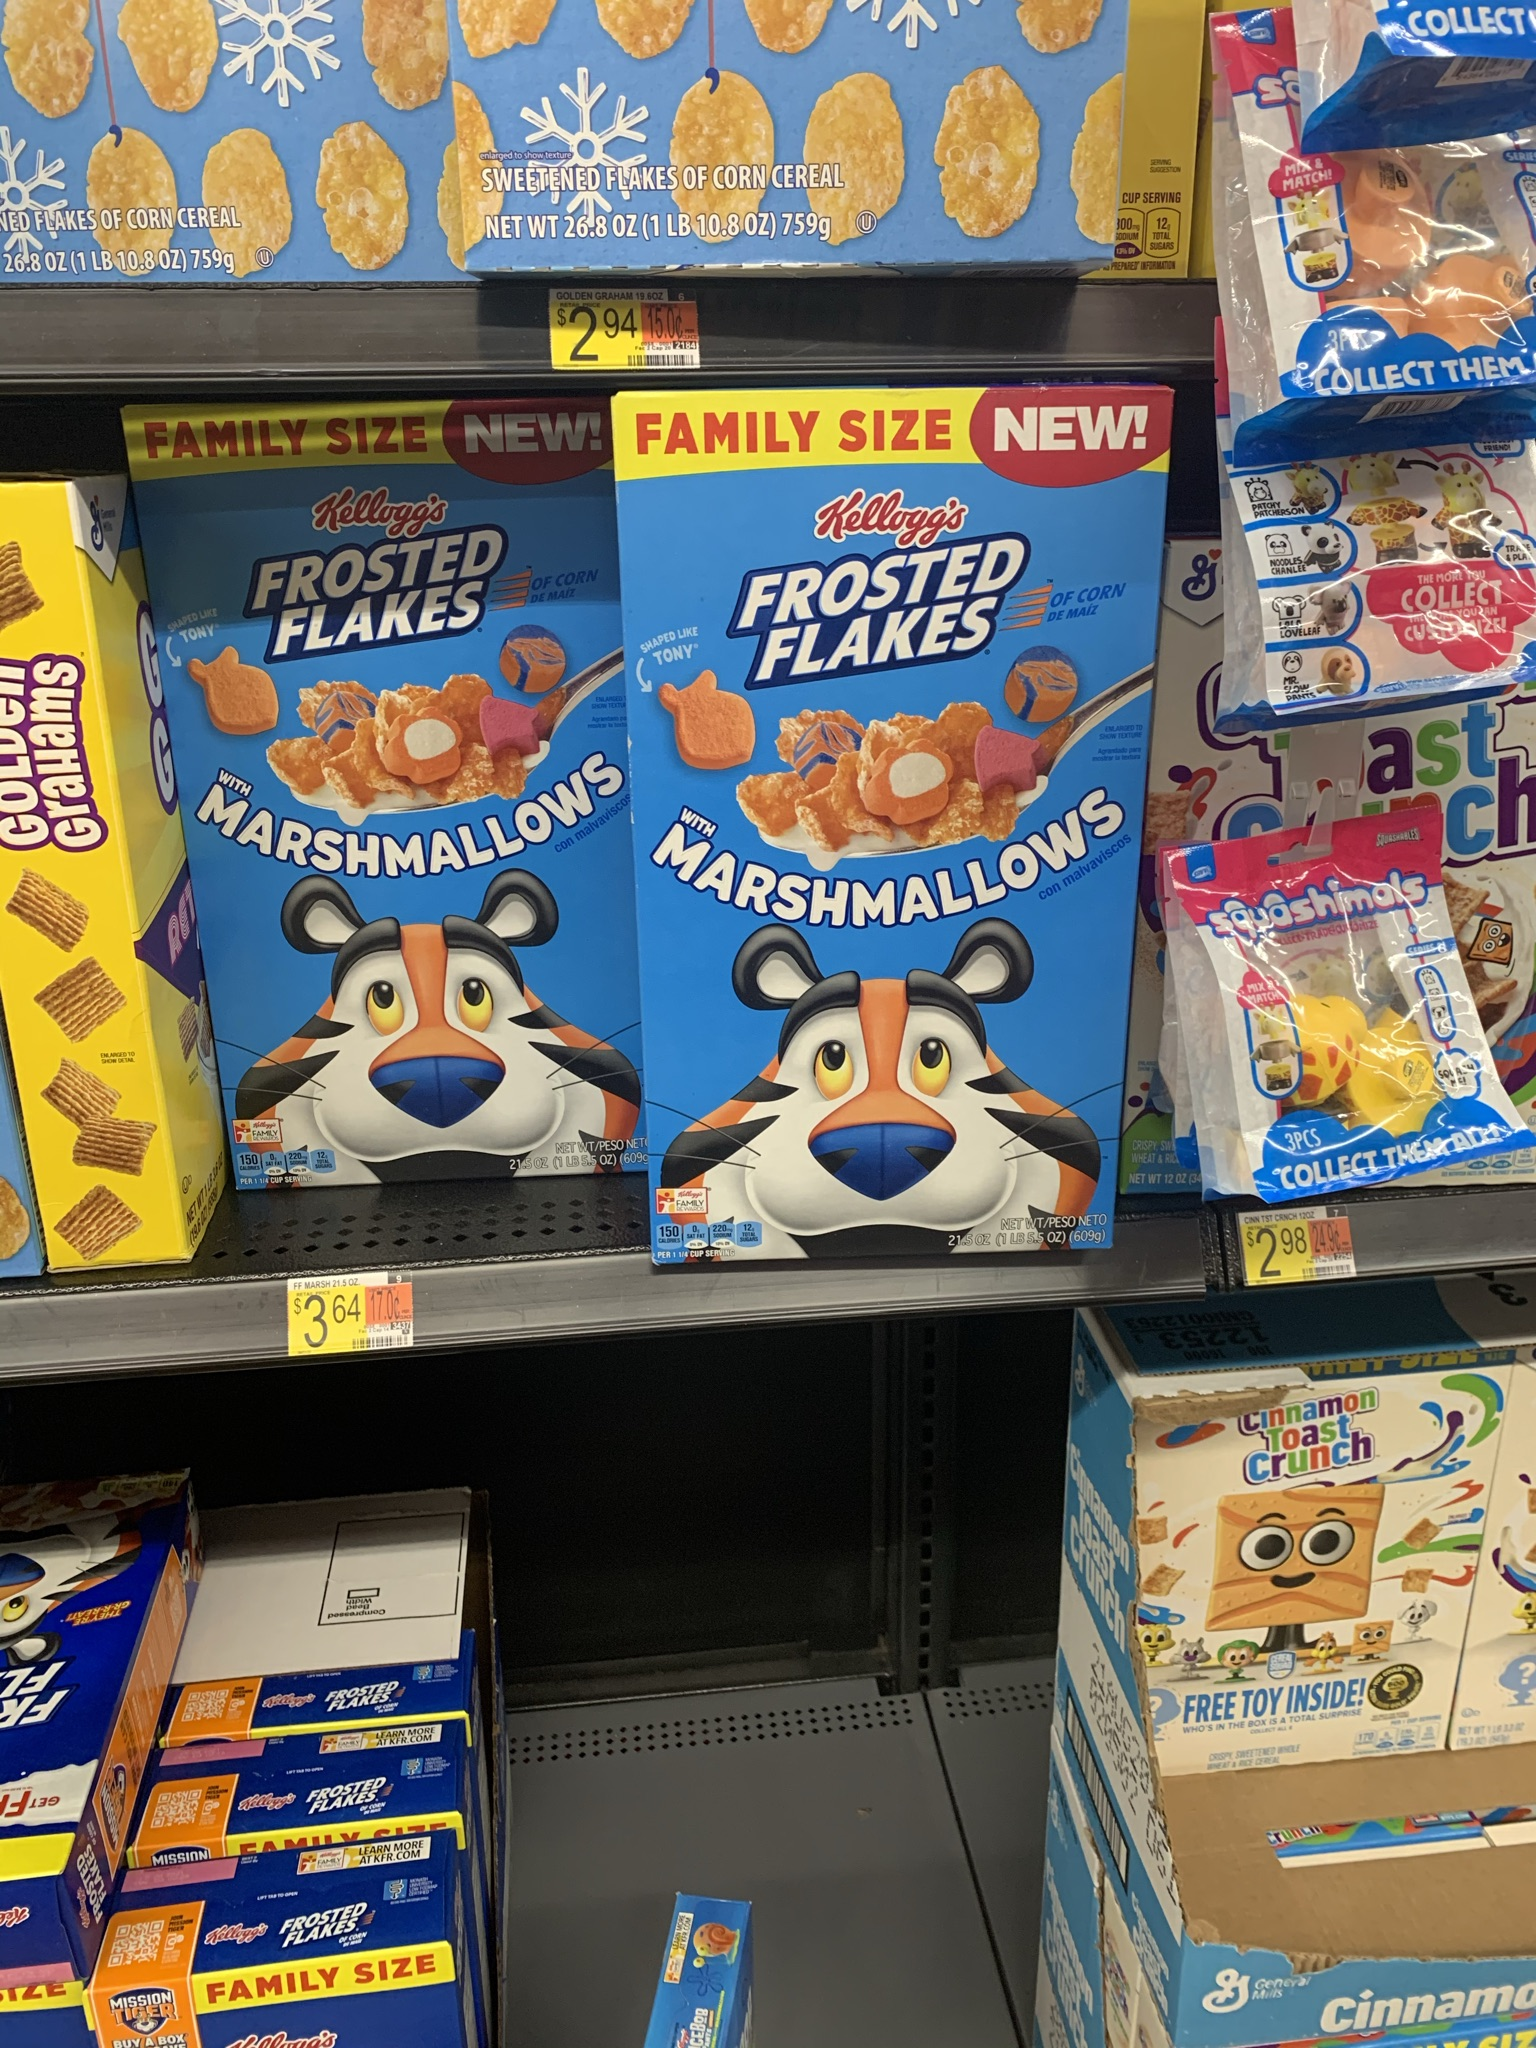cereal: (599, 382, 1141, 1251), (137, 418, 645, 1171)
